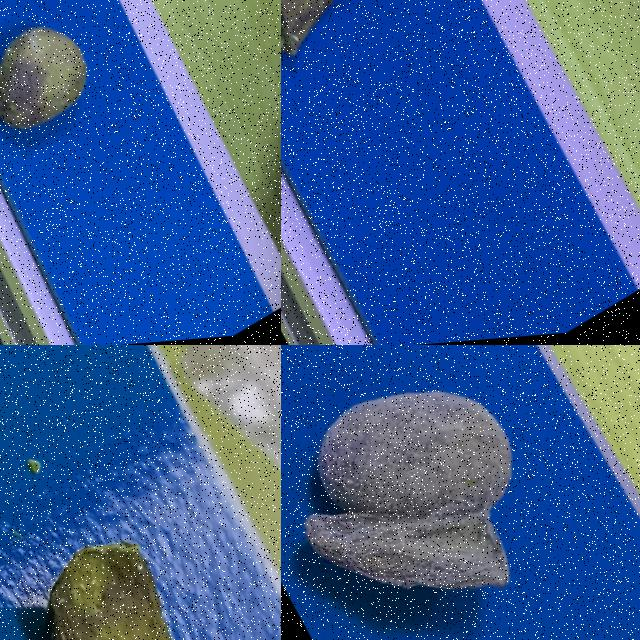Agglomerated_cocoabeans: (281, 345, 625, 639)
Fine_cocoabeans: (0, 0, 192, 250)
Flat_cocoabeans: (0, 454, 280, 639), (281, 0, 453, 168)
